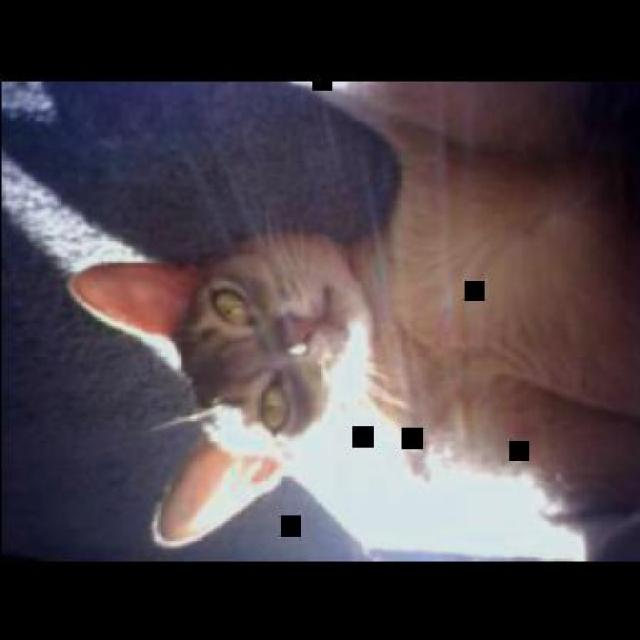unauthorized: (3, 78, 639, 560)
